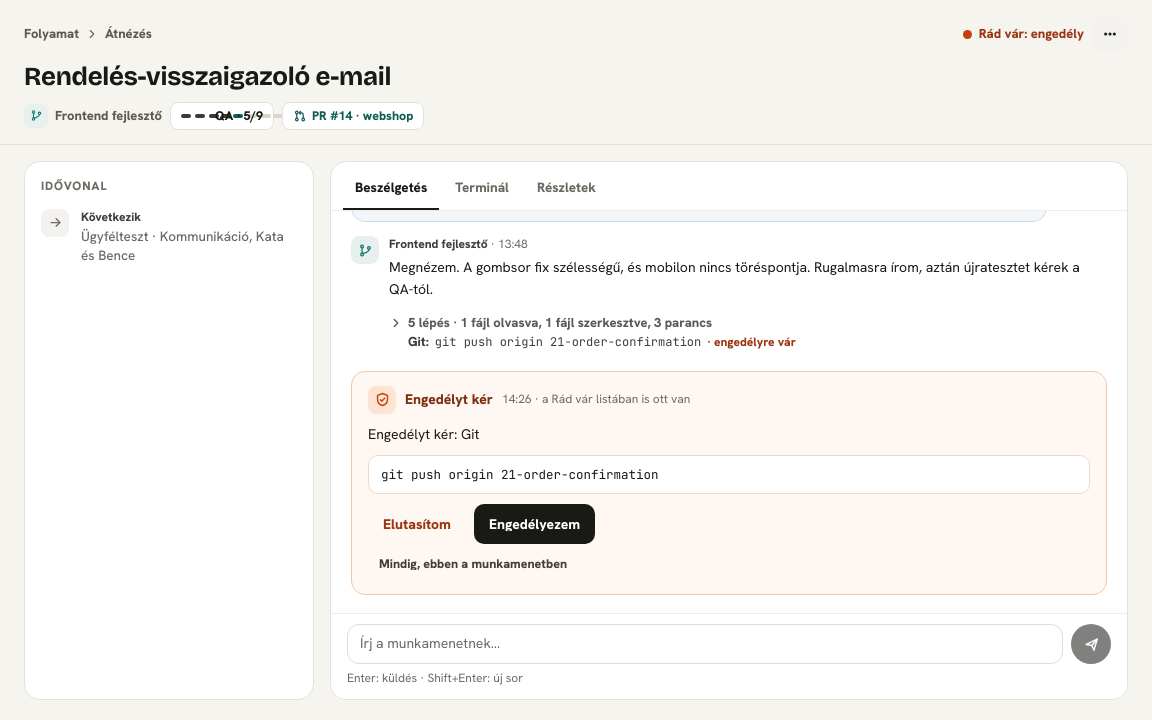
Test case: token usage of the session (PM-178) › shows each model in the details, the subagent apart
The width and height of the screenshot is (1152, 720).
(page scrolled)
Click the tab "Részletek": (566, 189) [525,168,608,210]
(page scrolled)
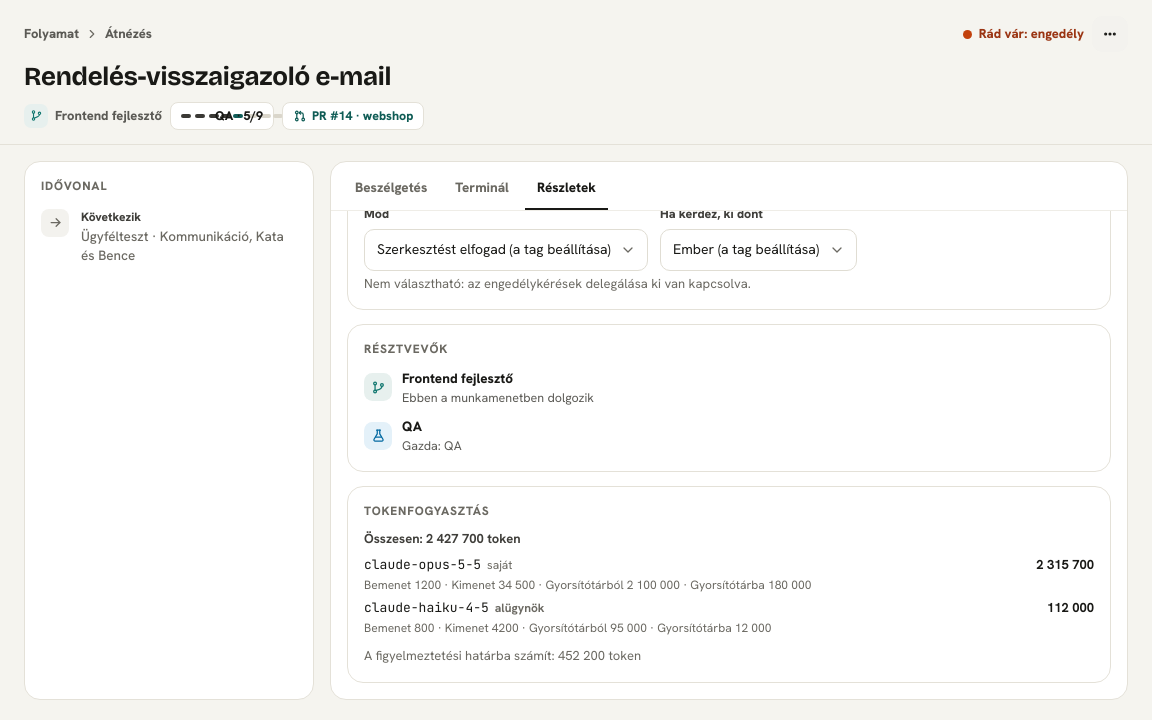
Expected: the text "claude-opus-5-5" is shown, [364,556,481,575]
Expected: the text "claude-haiku-4-5" is shown, [364,600,489,618]
Expected: the text "alügynök" is shown, [495,600,544,617]
